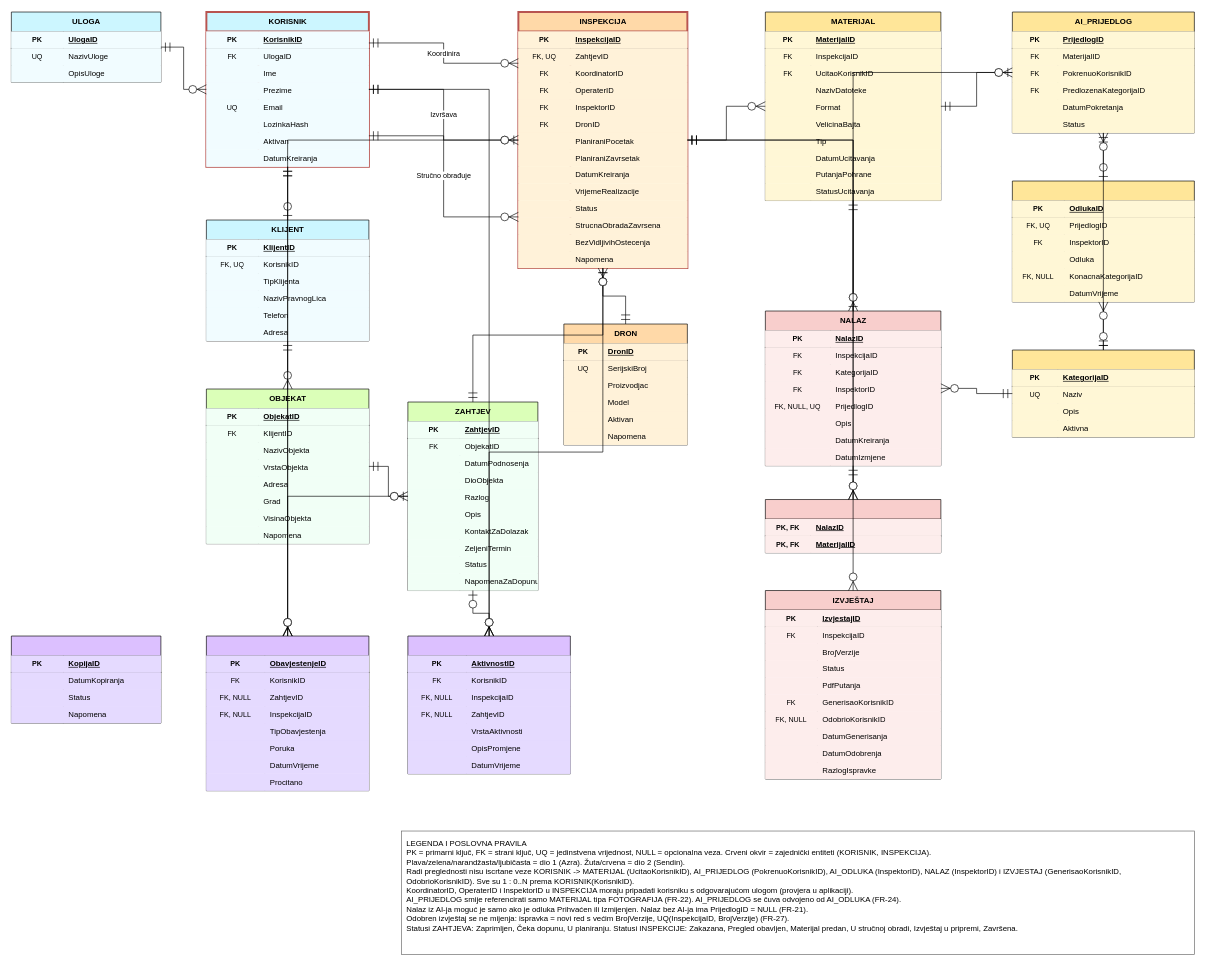
Image size: 1206x966. Some labels were removed from this diagram. Here are the shapes that lost their labels. From the top down, the box of each, then its label:
(1012, 180, 1194, 302): AI_ODLUKA
(1012, 349, 1194, 437): KATEGORIJA_OSTECENJA
(765, 499, 941, 553): NALAZ_MATERIJAL
(11, 635, 161, 723): SIGURNOSNA_KOPIJA
(206, 635, 369, 791): OBAVJEŠTENJE
(407, 635, 570, 774): EVIDENCIJA_AKTIVNOSTI
